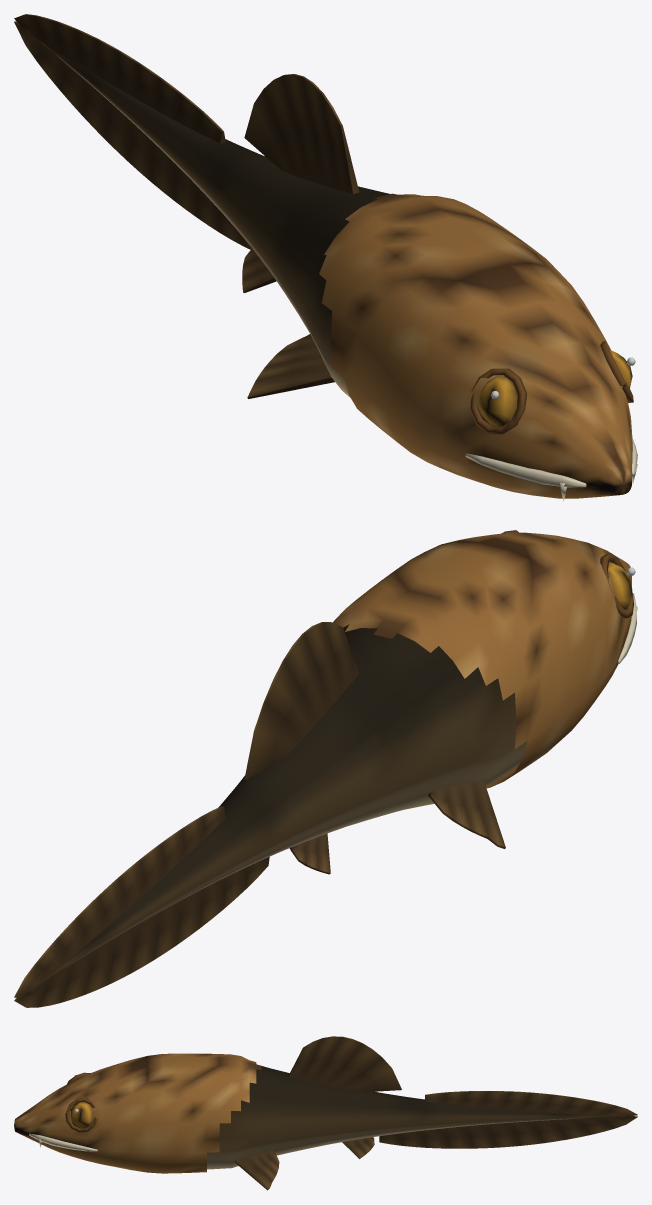
Rendered from Mcnamaraspis.fbx.
The picture shows the model from 3 angles, top to bottom: view 1: azimuth 30°, elevation 25°; view 2: azimuth 150°, elevation 25°; view 3: azimuth 270°, elevation 25°; orthographic projection. The views are drawn at different scales.
Parts seen in each view (by area): view 1: Mcnamaraspis; view 2: Mcnamaraspis; view 3: Mcnamaraspis.
Boxes of the visible parts, x1,y1,x2,y2 form: Mcnamaraspis: [14, 14, 637, 500]; Mcnamaraspis: [14, 530, 637, 1007]; Mcnamaraspis: [14, 1036, 637, 1190].
Size of the model in its own units: 0.4019 by 0.3729 by 1.64.
